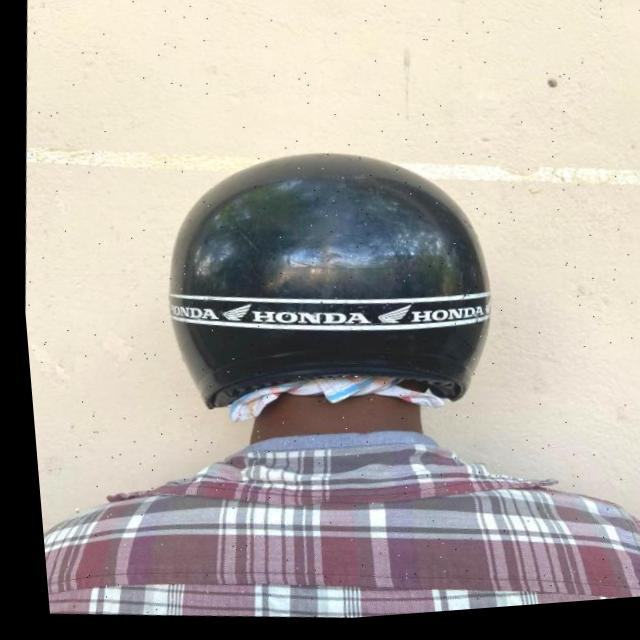helmet: (141, 133, 508, 460)
